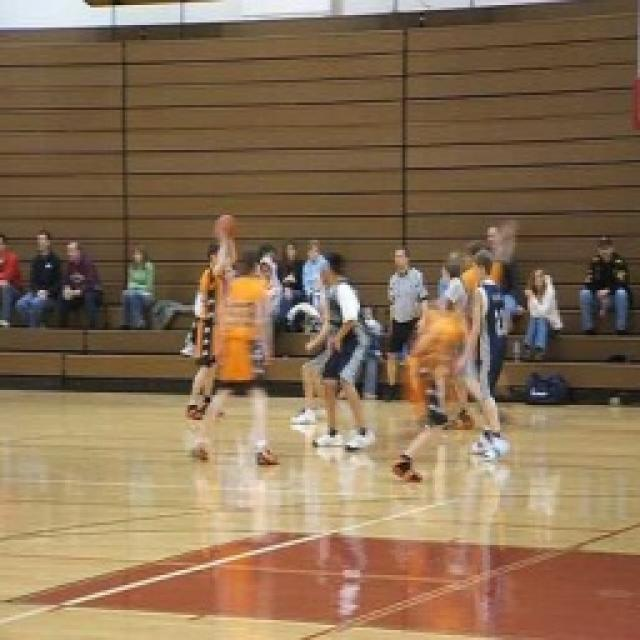basketball: (213, 204, 240, 246)
